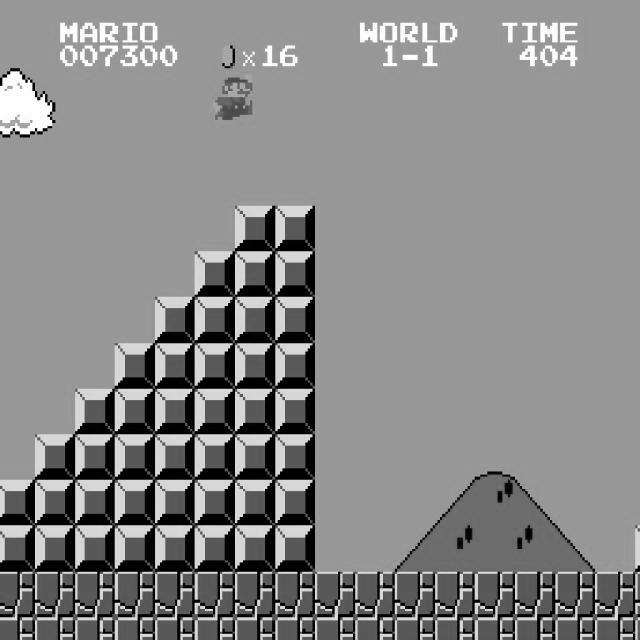11- little_mario: (210, 71, 253, 120)
17- undestructible_block: (34, 572, 76, 618), (74, 572, 116, 618), (114, 572, 156, 618), (154, 572, 196, 618), (194, 572, 236, 618), (234, 572, 276, 618), (274, 572, 316, 618), (314, 572, 356, 618), (354, 572, 396, 618), (394, 572, 436, 618), (434, 572, 476, 618), (474, 572, 516, 618), (514, 572, 556, 618), (554, 572, 596, 618), (594, 572, 636, 618), (0, 572, 35, 618), (34, 617, 76, 640), (74, 617, 116, 640), (114, 617, 156, 640), (154, 617, 196, 640), (194, 617, 236, 640), (234, 617, 276, 640), (274, 617, 316, 640), (314, 617, 356, 640), (354, 617, 396, 640), (394, 617, 436, 640), (434, 617, 476, 640), (474, 617, 516, 640), (514, 617, 556, 640), (554, 617, 596, 640), (594, 617, 636, 640), (0, 617, 35, 640), (635, 572, 640, 618), (635, 617, 640, 640)
7- goal_pole: (635, 68, 640, 114), (635, 114, 640, 160), (635, 160, 640, 206), (635, 252, 640, 298), (635, 297, 640, 343), (635, 388, 640, 434), (635, 434, 640, 480), (635, 480, 640, 526), (635, 206, 640, 251), (635, 343, 640, 388)
9- hard_block: (34, 434, 76, 480), (34, 480, 76, 526), (34, 526, 76, 572), (74, 388, 116, 434), (74, 434, 116, 480), (74, 480, 116, 526), (74, 526, 116, 572), (114, 388, 156, 434), (114, 434, 156, 480), (114, 480, 156, 526), (114, 526, 156, 572), (154, 297, 196, 343), (154, 388, 196, 434), (154, 434, 196, 480), (154, 480, 196, 526), (154, 526, 196, 572), (194, 252, 236, 298), (194, 297, 236, 343), (194, 388, 236, 434), (194, 434, 236, 480), (194, 480, 236, 526), (194, 526, 236, 572), (234, 252, 276, 298), (234, 297, 276, 343), (234, 388, 276, 434), (234, 434, 276, 480), (234, 480, 276, 526), (234, 526, 276, 572), (274, 252, 316, 298), (274, 297, 316, 343), (274, 388, 316, 434), (274, 434, 316, 480), (274, 480, 316, 526), (274, 526, 316, 572), (114, 343, 156, 388), (154, 343, 196, 388), (194, 343, 236, 388), (234, 206, 276, 251), (234, 343, 276, 388), (274, 206, 316, 251), (274, 343, 316, 388), (0, 480, 35, 526), (0, 526, 35, 572), (635, 526, 640, 572)
